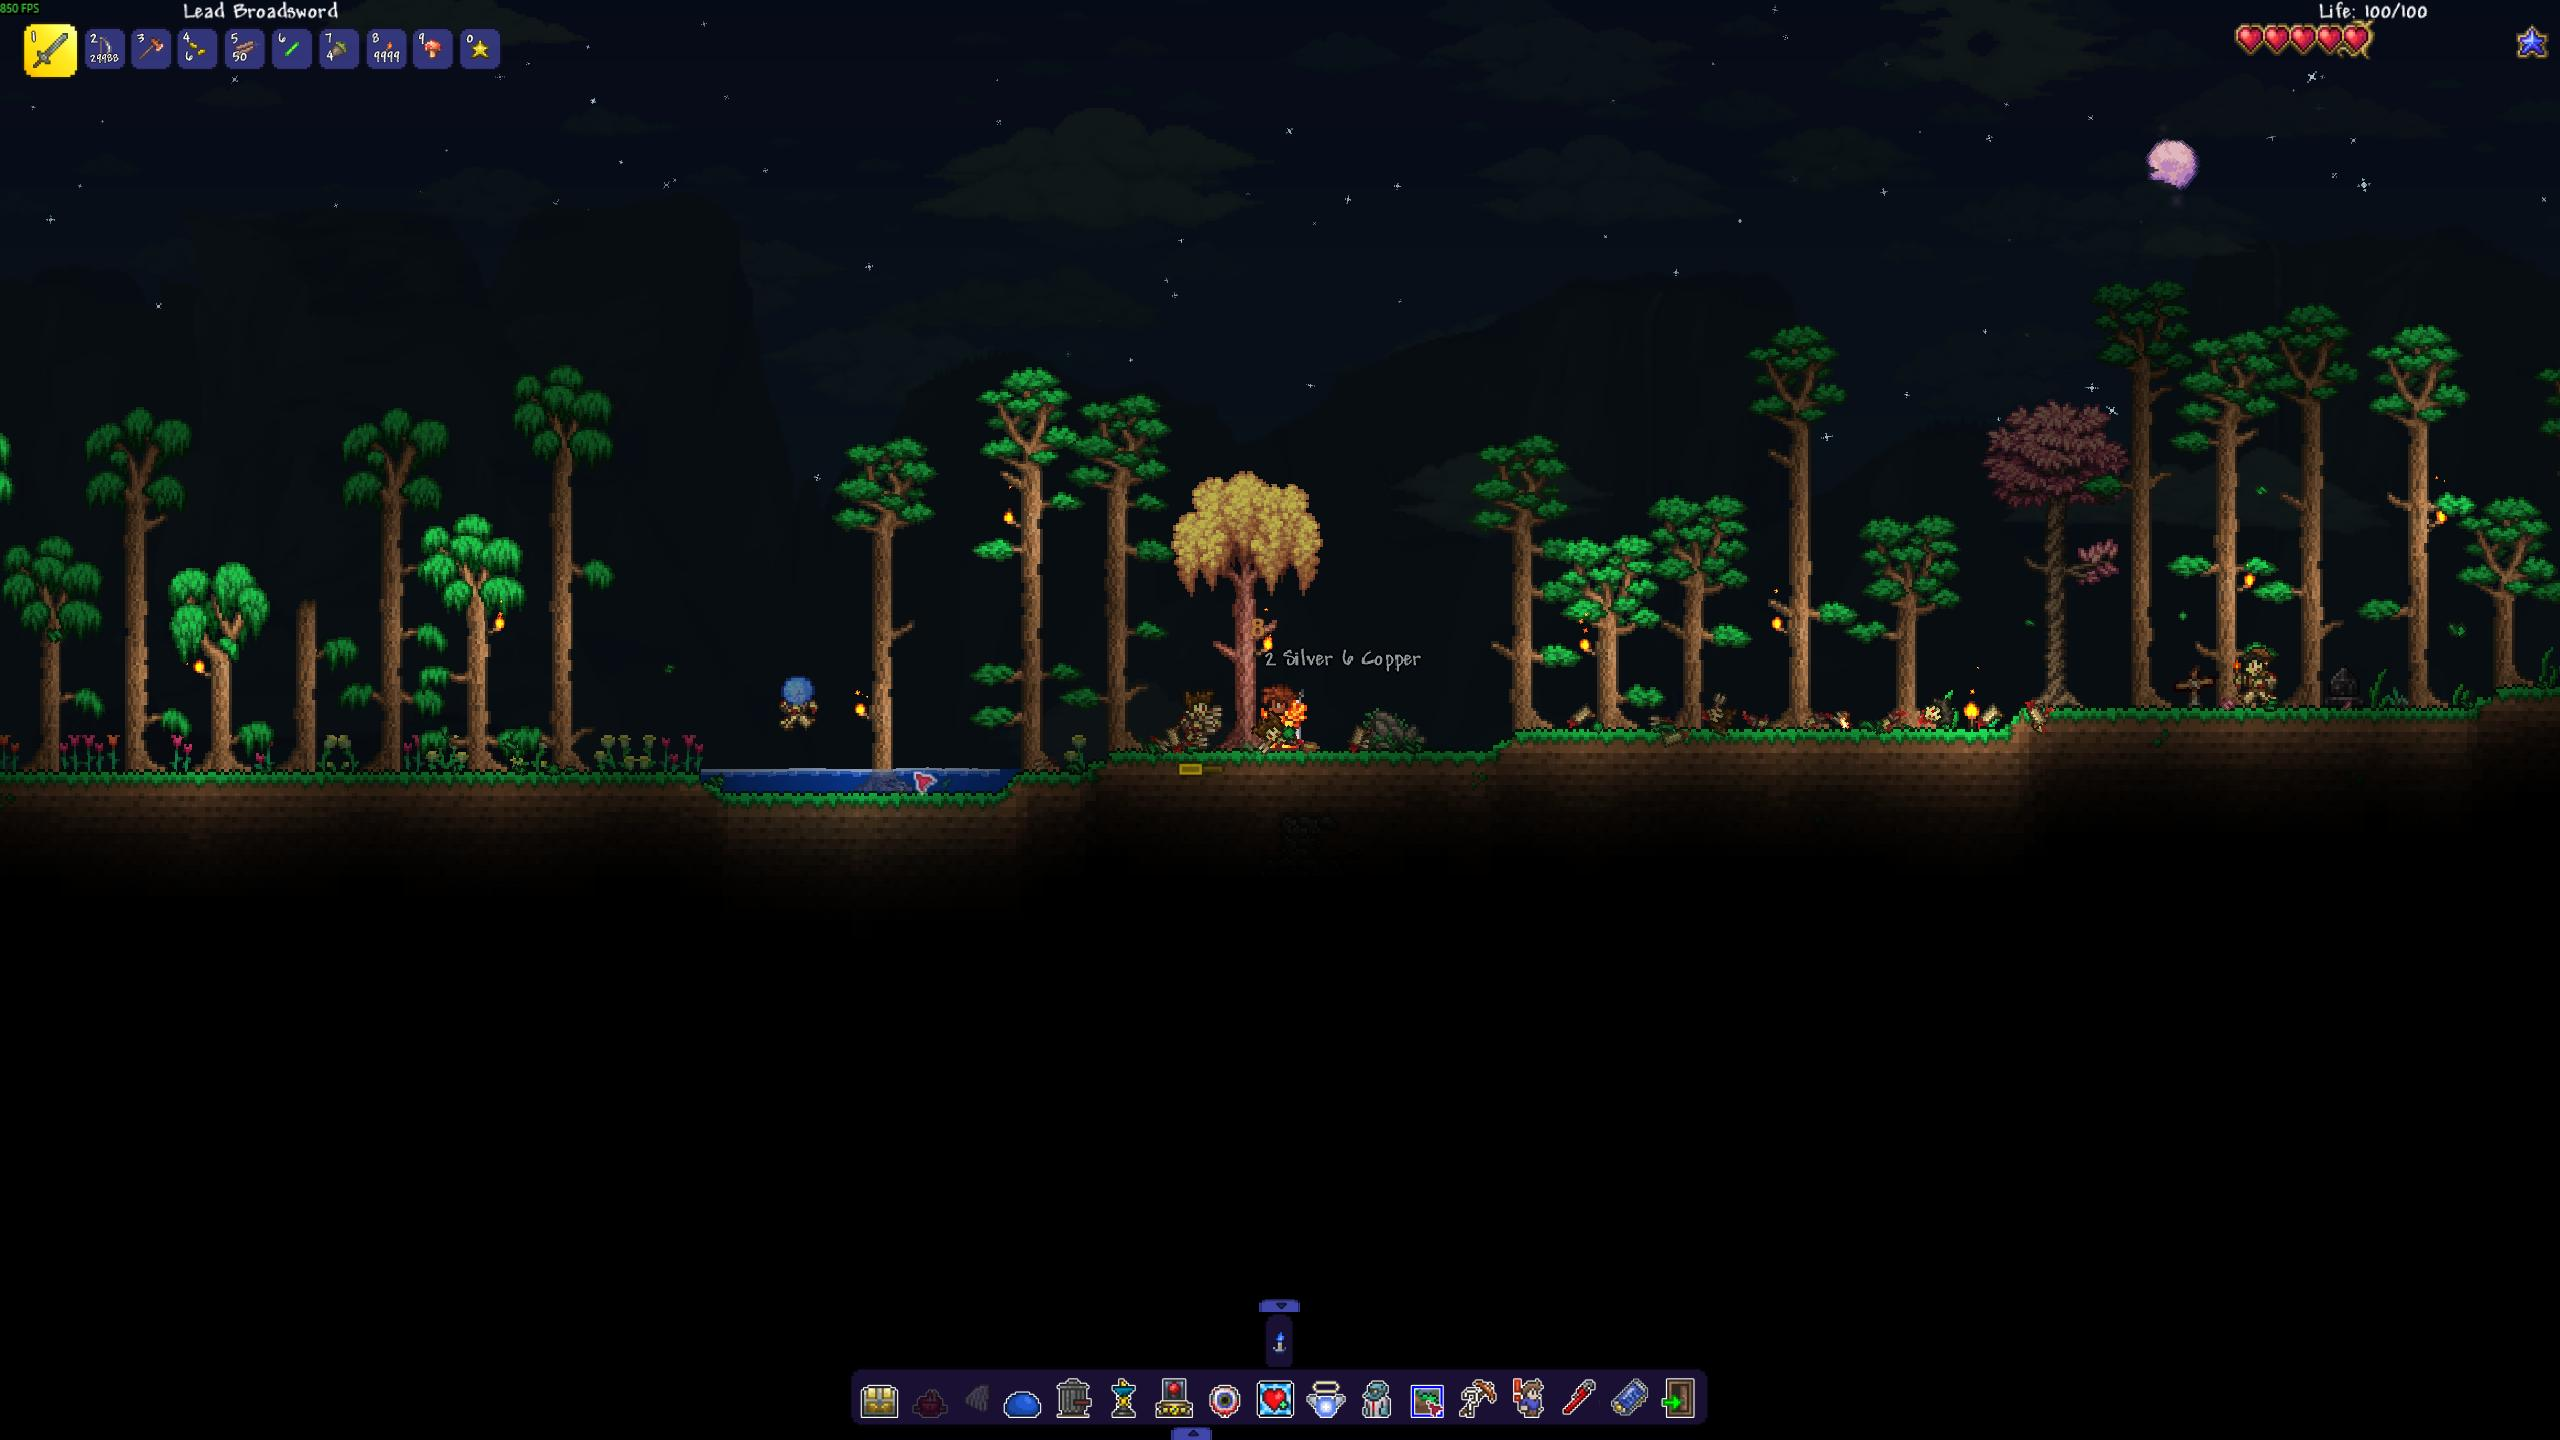Zombie: (1175, 689, 1224, 754), (2231, 645, 2279, 707), (777, 673, 821, 731)
